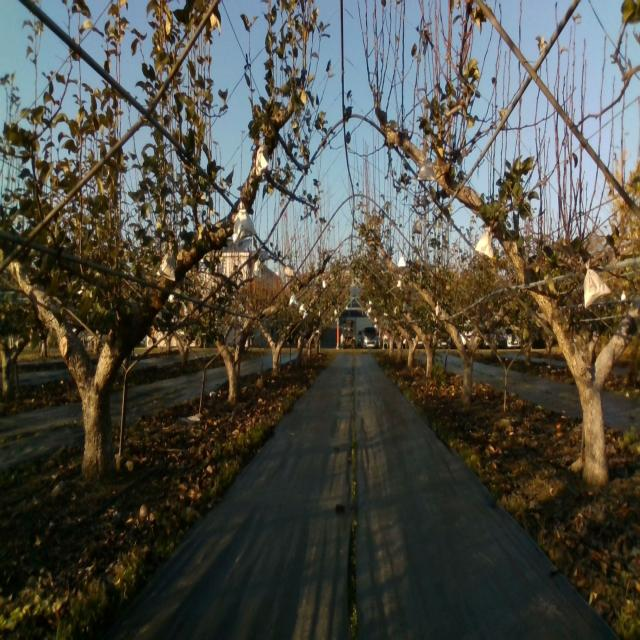pearbags: (584, 258, 611, 308), (234, 202, 256, 243), (157, 248, 176, 281), (474, 228, 494, 257), (417, 157, 436, 181), (256, 144, 268, 176)
